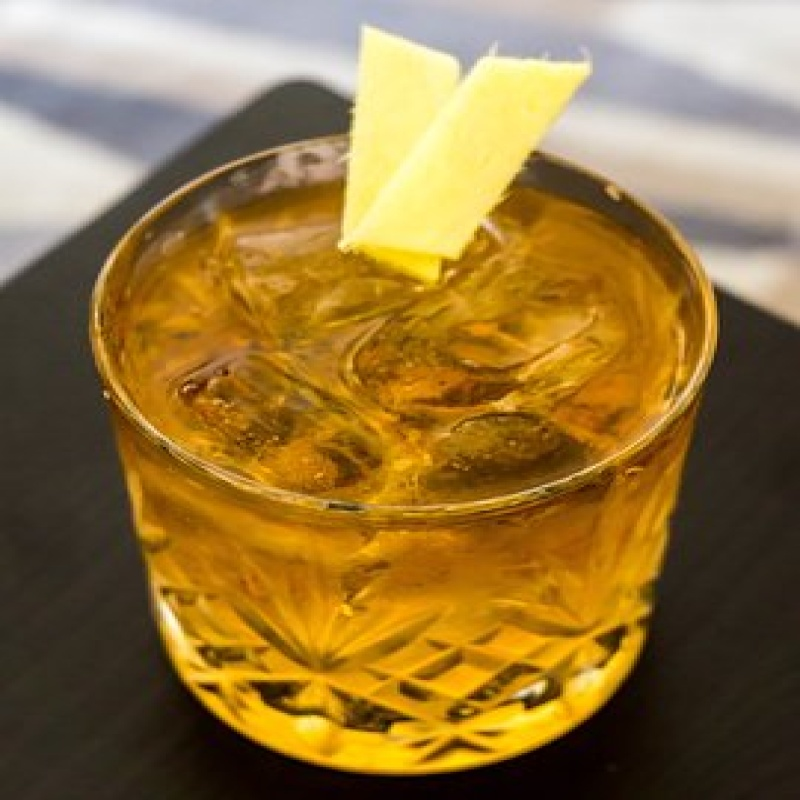whiskey: (133, 128, 700, 771)
